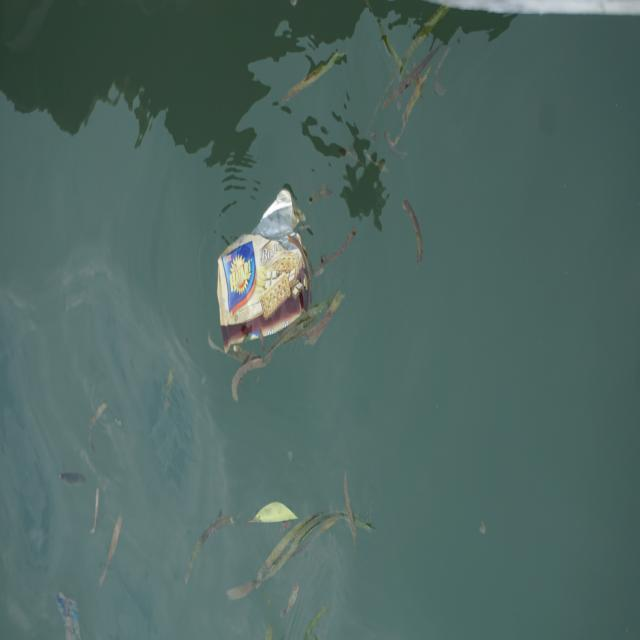Bungkus Makanan: (213, 186, 315, 355)
